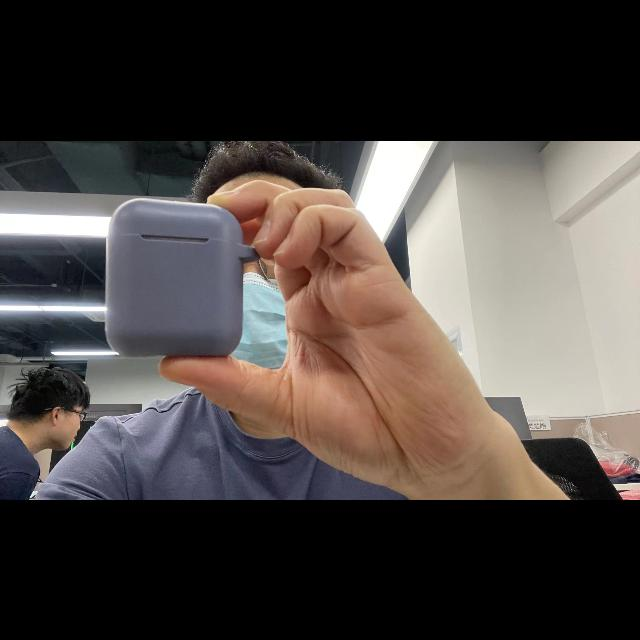airpods: (105, 199, 258, 357)
